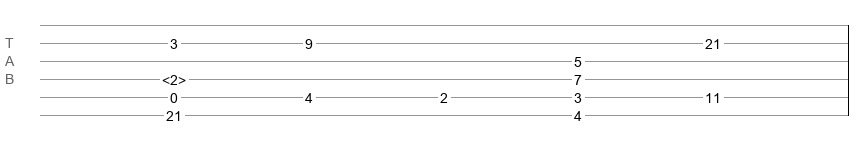0: (170, 90, 178, 100)
11: (705, 90, 721, 100)
2: (440, 90, 448, 100)
21: (166, 108, 182, 118), (705, 36, 721, 46)
3: (170, 36, 178, 46), (574, 90, 582, 100)
4: (305, 90, 313, 100), (574, 108, 582, 118)
5: (574, 54, 582, 64)
7: (574, 72, 582, 82)
9: (305, 36, 313, 46)
harmonic: (162, 72, 186, 82)
